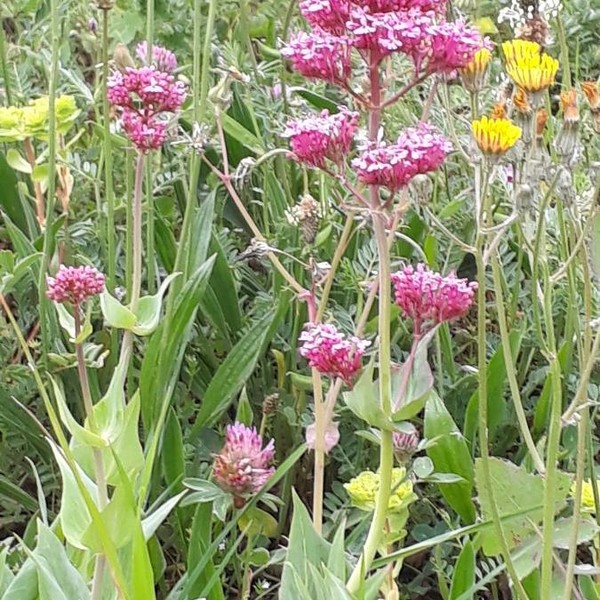obstacle: (87, 38, 465, 553), (441, 14, 576, 473), (69, 187, 216, 581)
